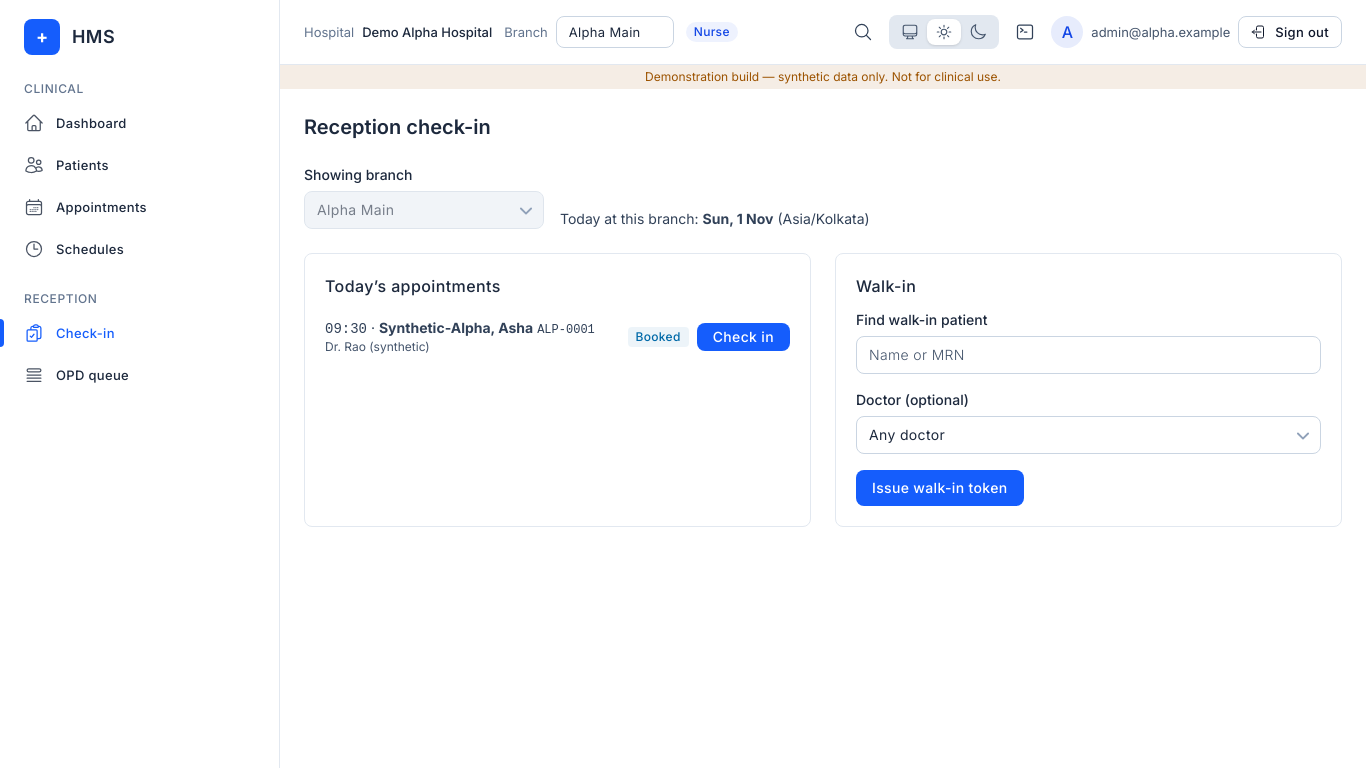
it: CheckInPage › maps 409 invalid_transition to a clear message
Click the button "Check in" at [743, 336], box [697,322,790,350]
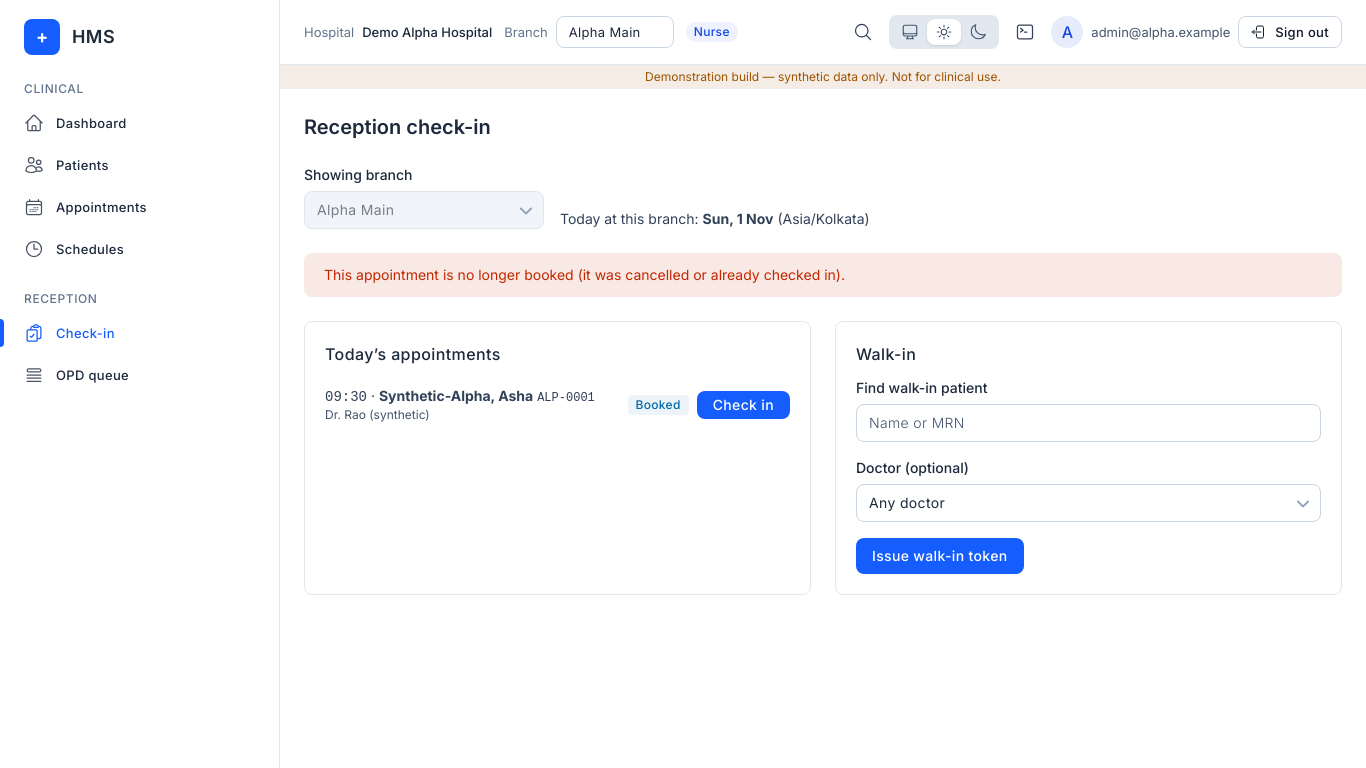
expect the message shows "no longer booked": met, box [324,266,845,283]
